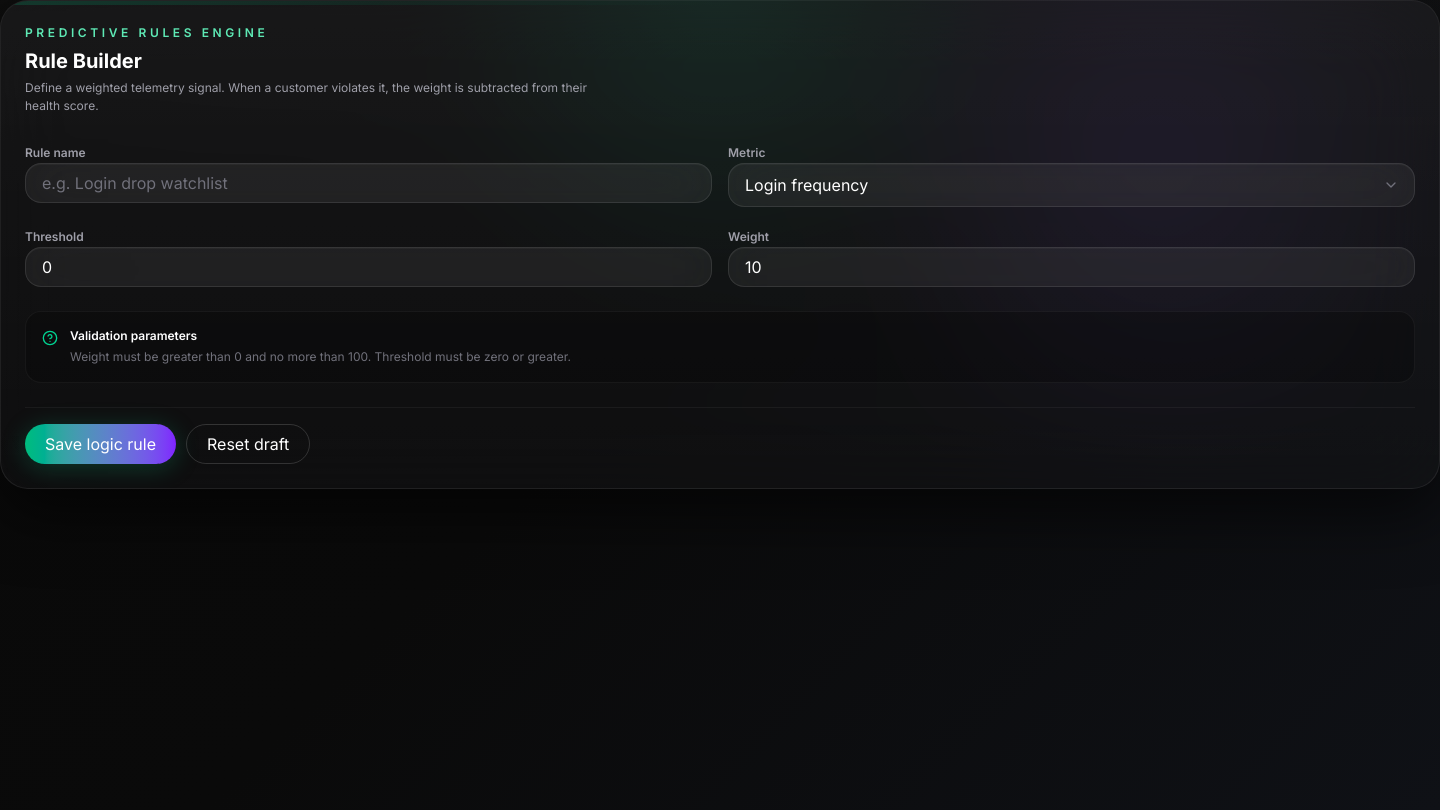
Test: RuleBuilderForm component › rejects a weight outside the 1-100 range
In the field with placeholder "e.g. Login drop watchlist": (368,183) [25,163,712,203], type "Valid rule name"
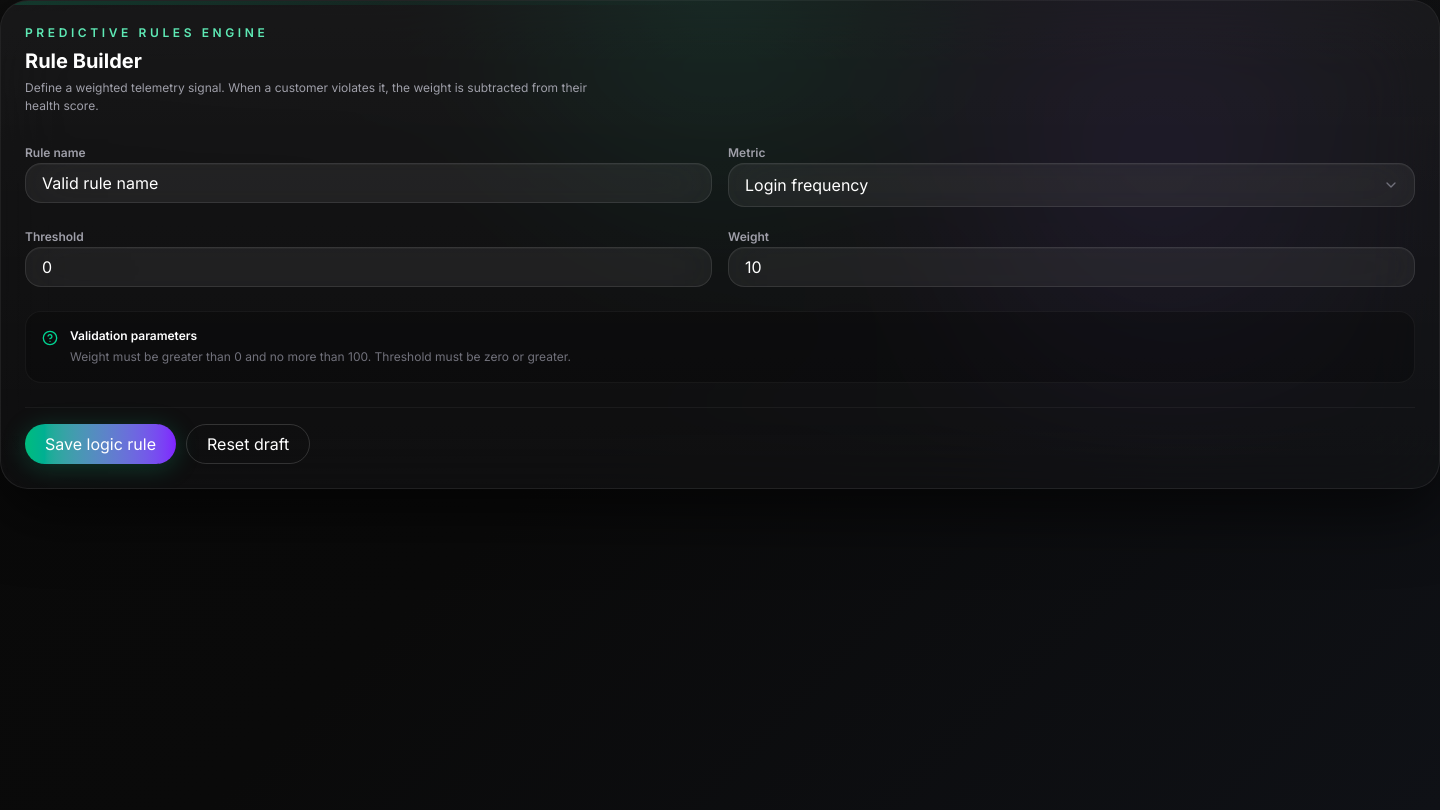
Replace the text in the number field showing "10" with "500": (1072,267) [728,247,1415,287]
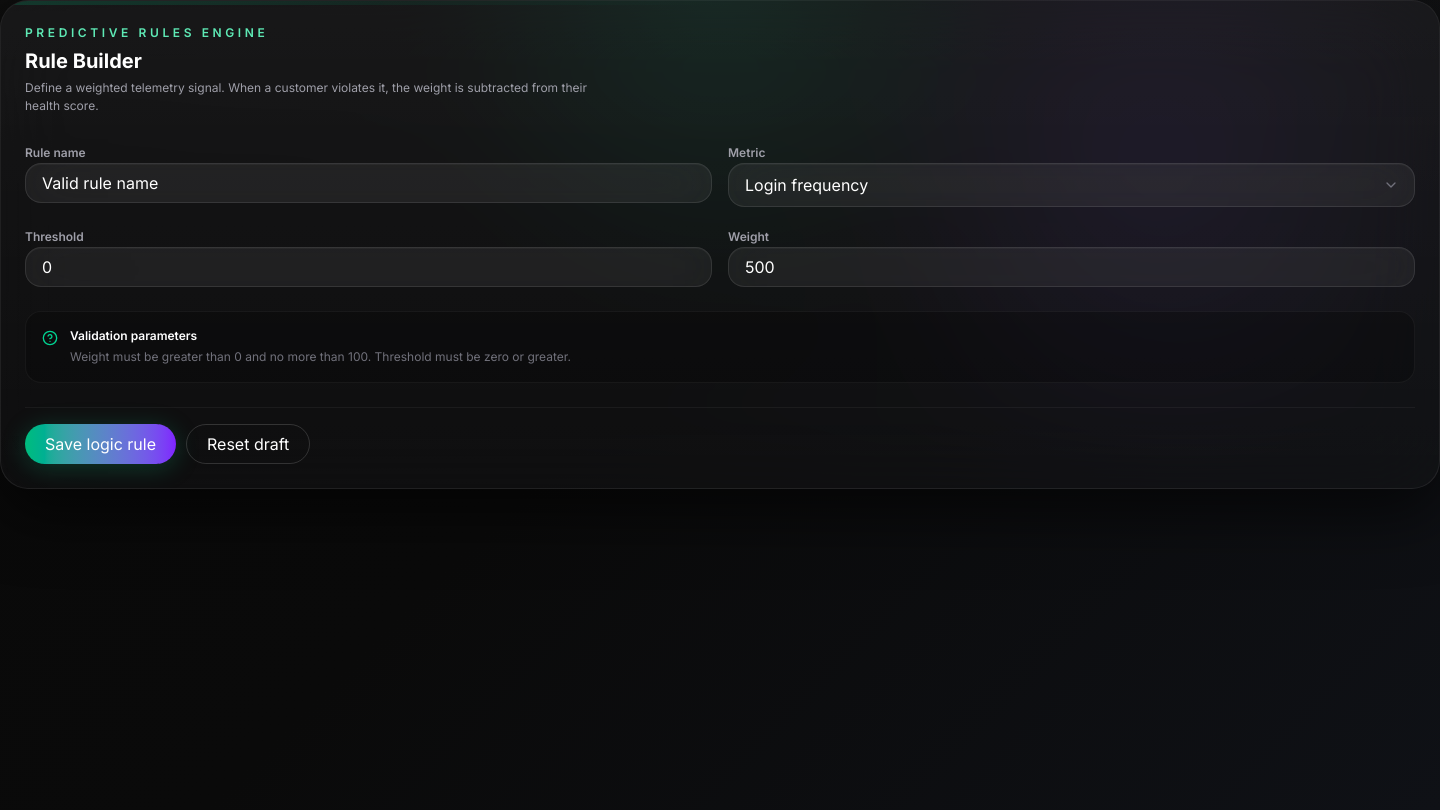
Click the button "Save logic rule": (100,444) [25,424,176,464]
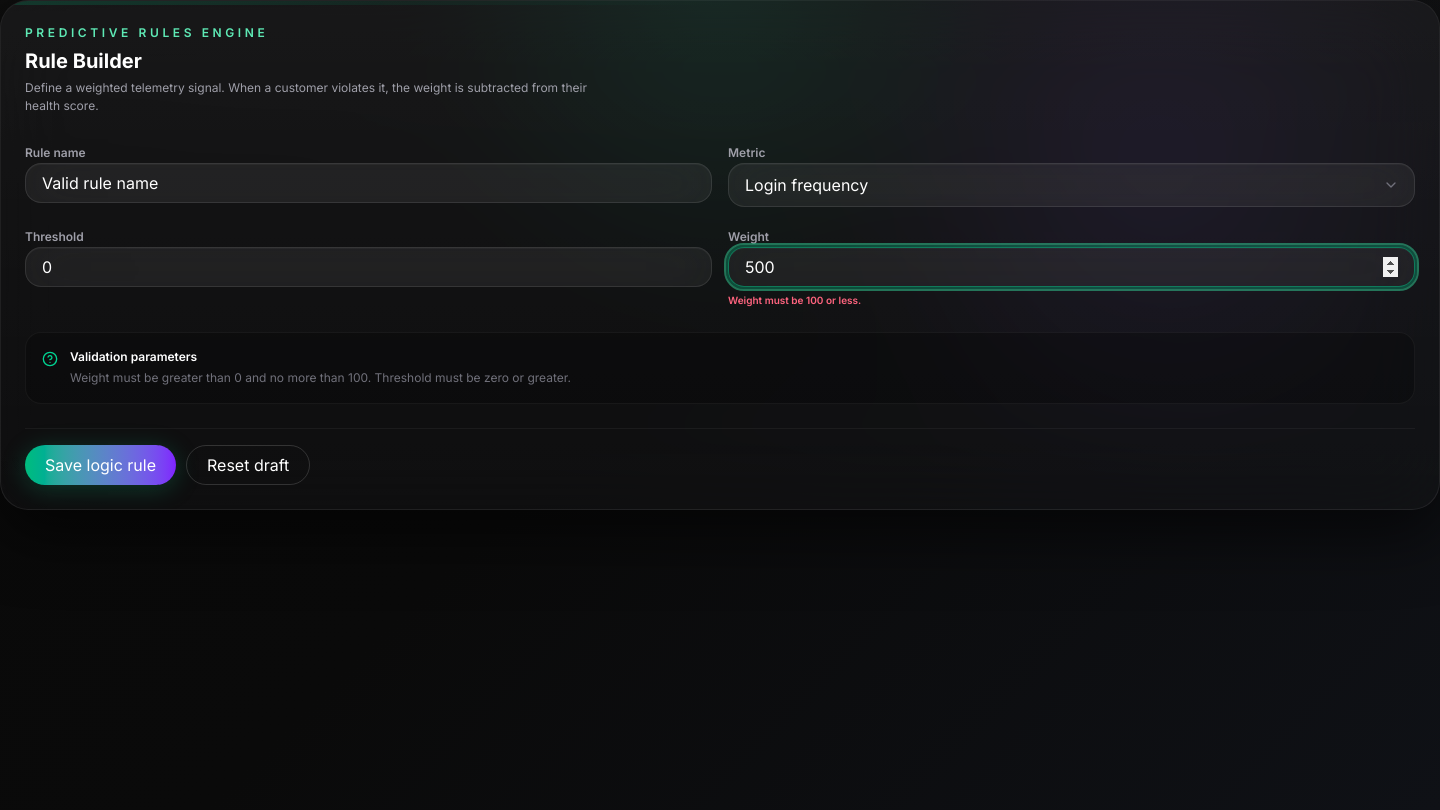
Expected: the text "Weight must be 100 or less." is shown, [728,294,861,306]
